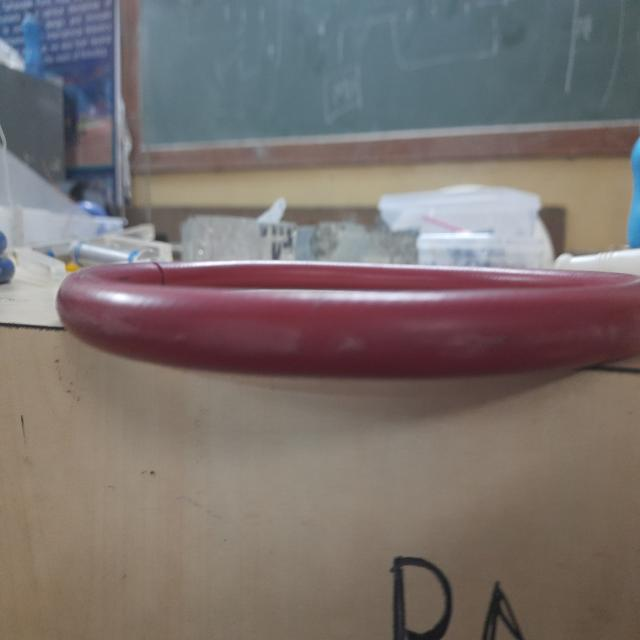daire: (65, 254, 640, 380)
